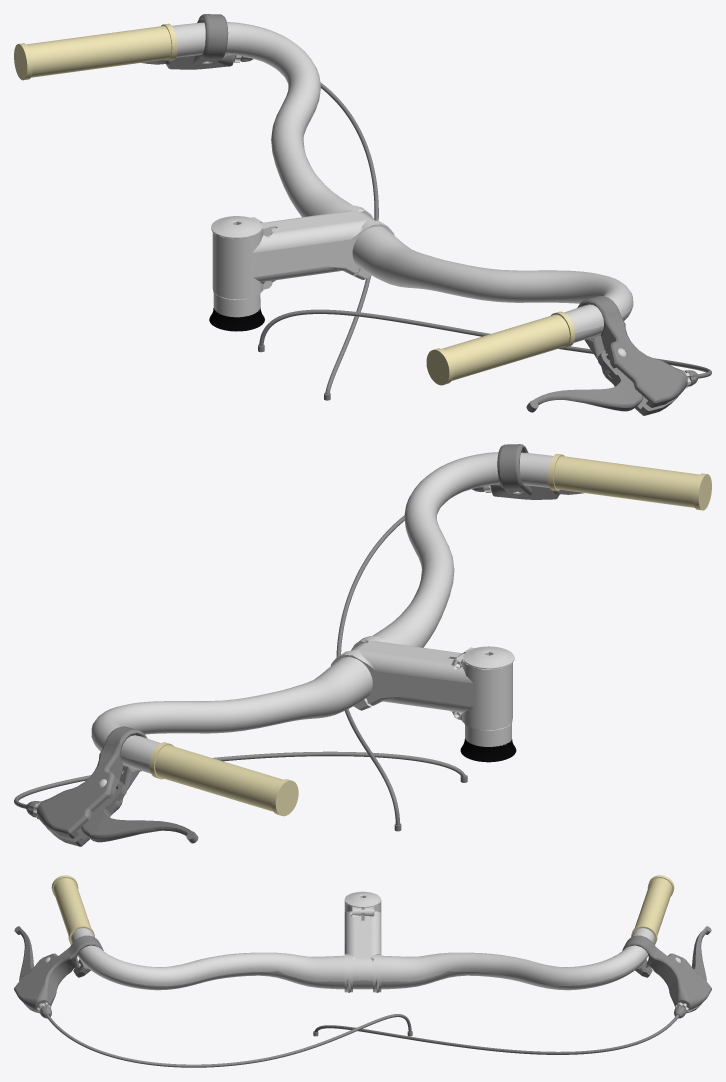
File: Handle7_Jeb_NoShifter.glb
The picture shows the model from 3 angles, top to bottom: view 1: azimuth 30°, elevation 25°; view 2: azimuth 150°, elevation 25°; view 3: azimuth 270°, elevation 25°; orthographic projection. The views are drawn at different scales.
Parts seen in each view (by area): view 1: no_transformations (×6); view 2: no_transformations (×6); view 3: no_transformations (×5).
Part boxes in pixels (x1=…): no_transformations (×6): x1=14, y1=14, x2=711, y2=415; no_transformations (×6): x1=14, y1=444, x2=711, y2=846; no_transformations (×5): x1=14, y1=875, x2=711, y2=1067.
Size of the model in its own units: 243 by 145 by 665.
